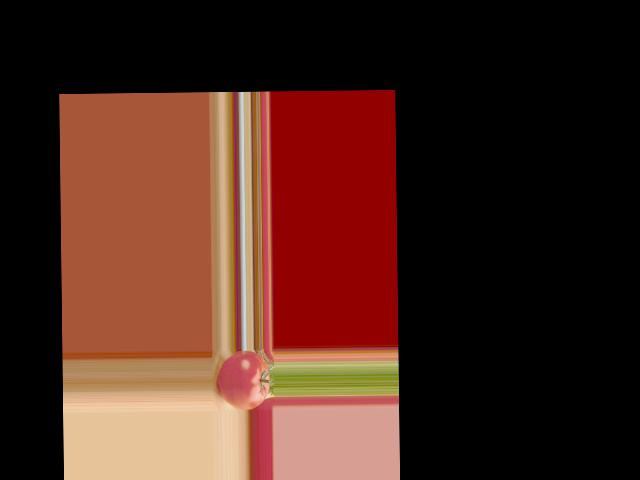tomato: (218, 350, 270, 410)
